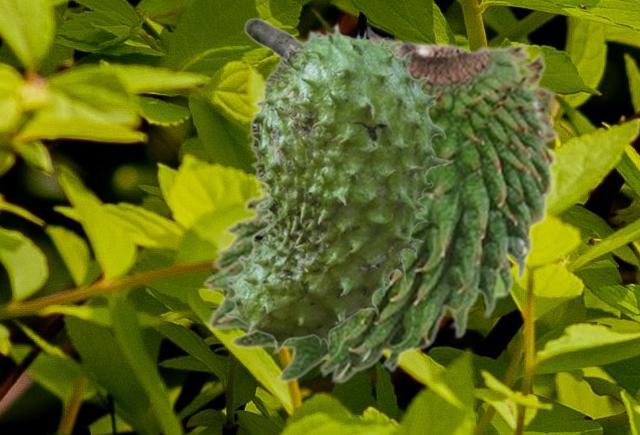guyabano: (201, 24, 560, 383), (222, 17, 454, 354)
